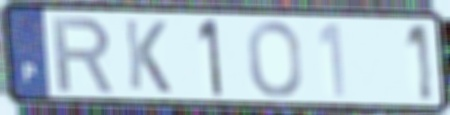1: (403, 22, 435, 103), (317, 22, 348, 99), (196, 17, 225, 99)
K: (122, 16, 174, 96)
O: (245, 19, 305, 100)
R: (49, 13, 117, 95)
